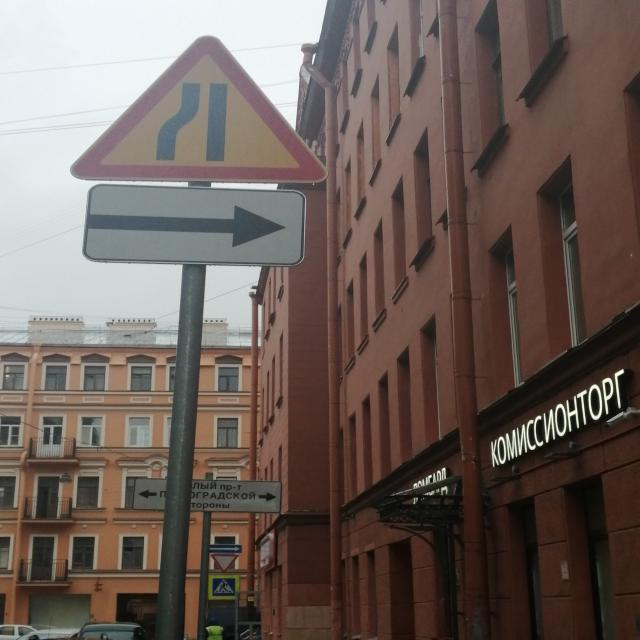road sign: (70, 34, 324, 181), (82, 186, 306, 267), (169, 264, 205, 466), (208, 575, 240, 601), (212, 556, 238, 575), (211, 545, 242, 554)
